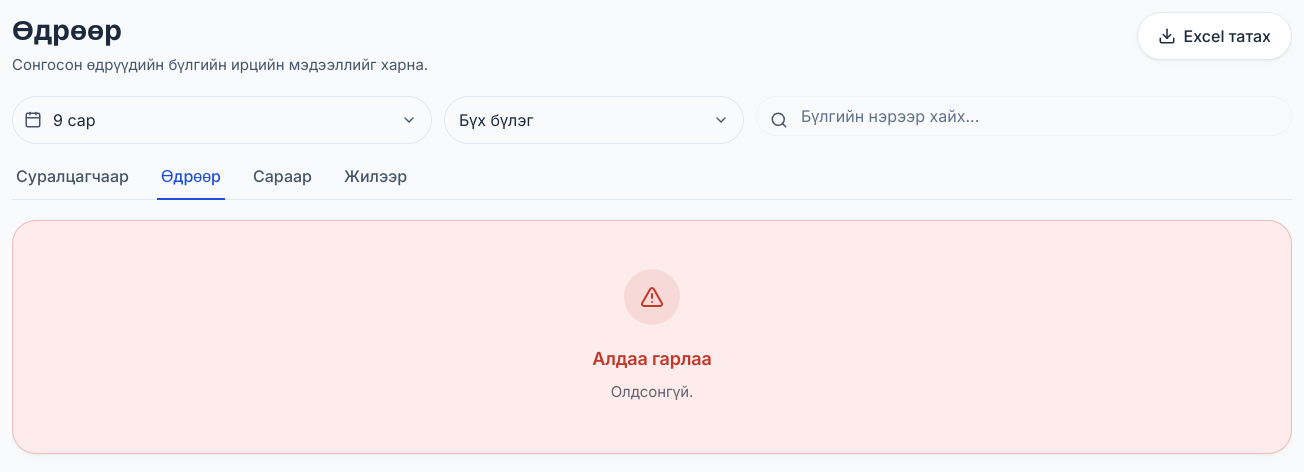
it: Суралцагчаар › counts each child's month from the register, inventing nothing
Click the tab "Суралцагчаар": coordinates (72, 182) [12,164,133,200]
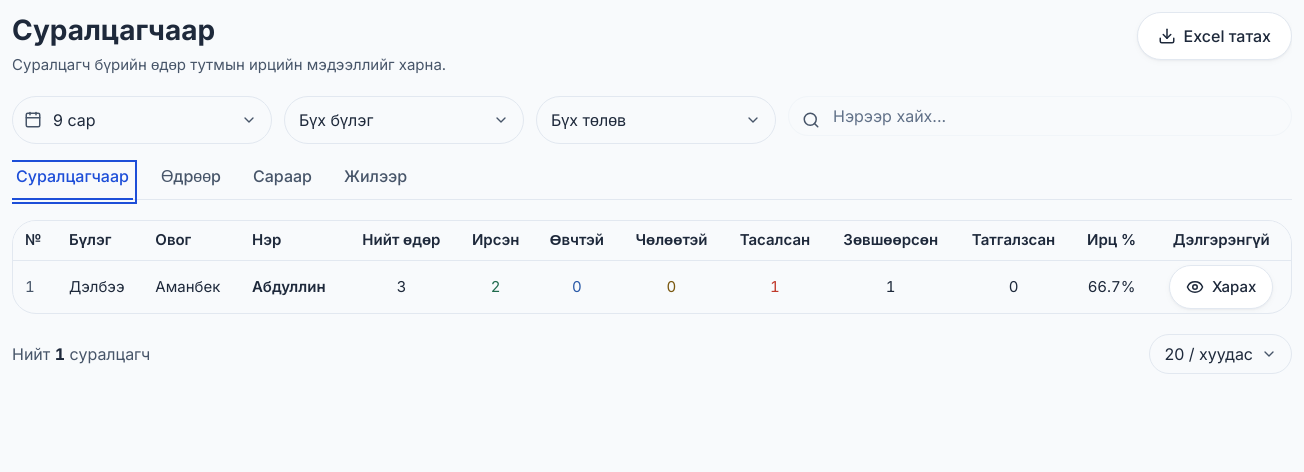
expect the heading "Суралцагчаар" is shown: met, box [12,13,215,47]
expect the text "Нийт 1 суралцагч" is shown: met, box [12,342,150,366]
